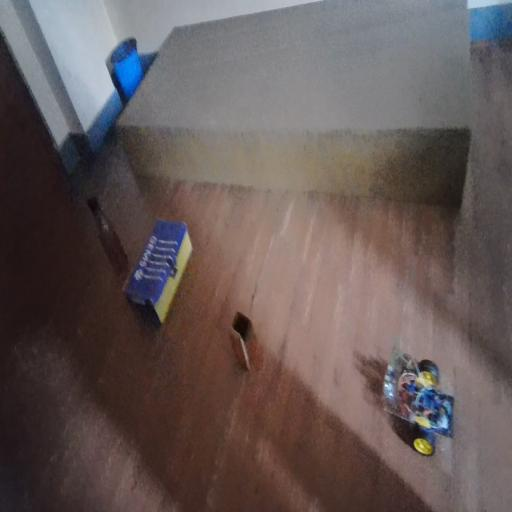Bottle: (87, 191, 132, 278)
car: (382, 339, 462, 464)
